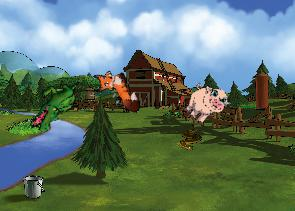crocodile: (28, 71, 81, 139)
fox: (89, 61, 143, 123)
pig: (178, 76, 233, 132)
